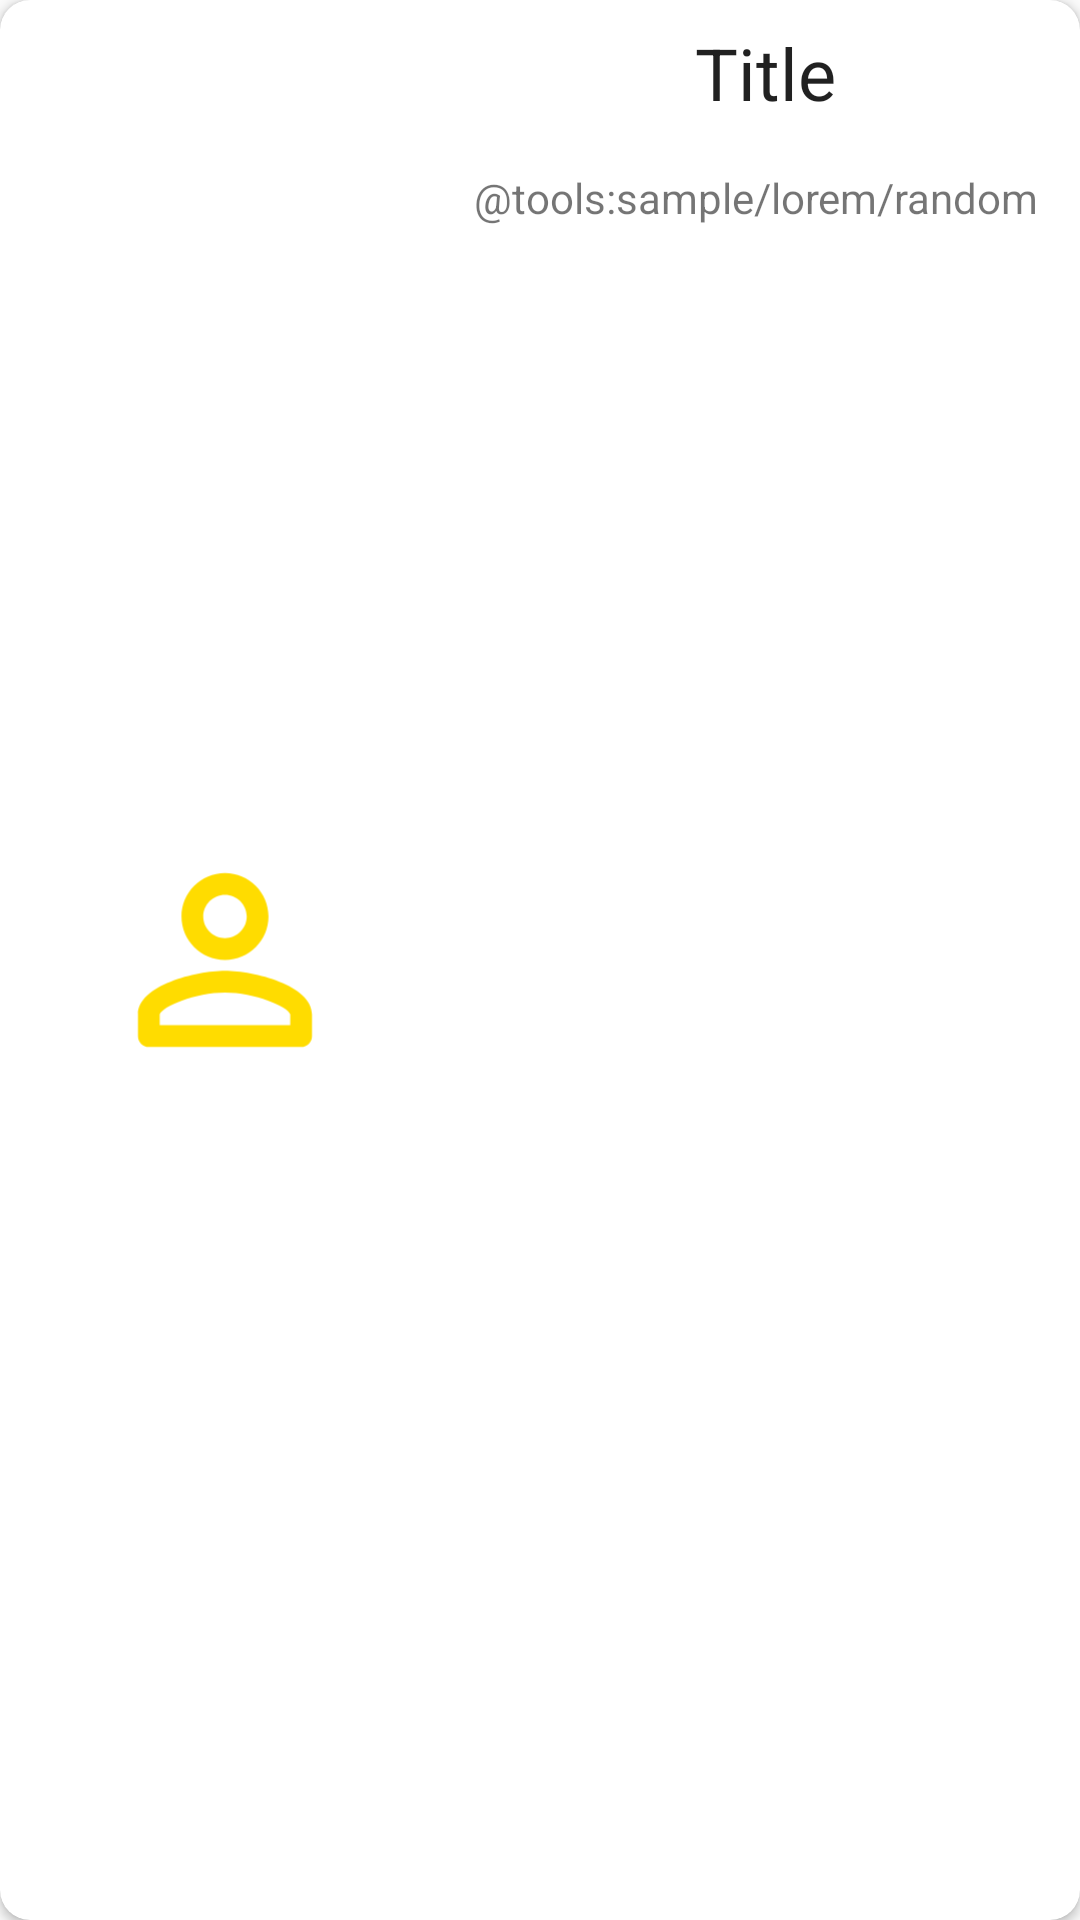

Icon bounding boxes for this 1080px x 1920px phone screenshot, format bbox=(x1, y1, x2, y2):
persona: bbox=(137, 872, 313, 1048)
